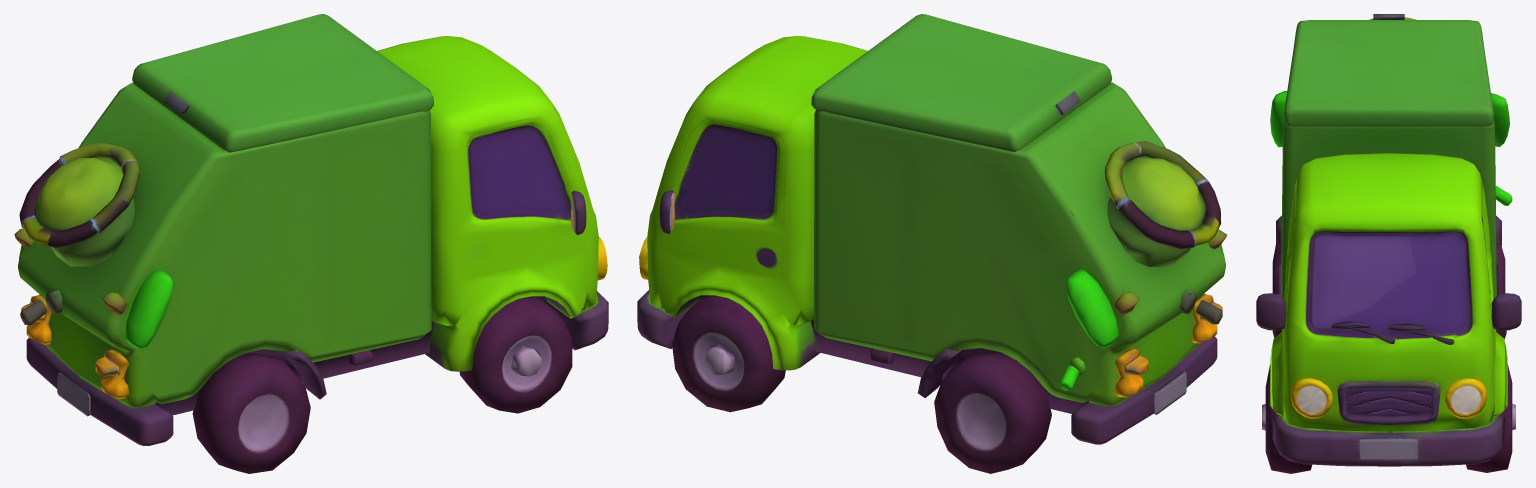
The model's file is waste_truck.glb.
The picture shows the model from 3 angles, left to right: view 1: azimuth 30°, elevation 25°; view 2: azimuth 150°, elevation 25°; view 3: azimuth 270°, elevation 25°; orthographic projection. The views are drawn at different scales.
Visible parts, largest first — view 1: tripo_node_040b0d3a-fc65-4d9e-b667-80920366ba9a; view 2: tripo_node_040b0d3a-fc65-4d9e-b667-80920366ba9a; view 3: tripo_node_040b0d3a-fc65-4d9e-b667-80920366ba9a.
Boxes of the visible parts, x1=… form: tripo_node_040b0d3a-fc65-4d9e-b667-80920366ba9a: x1=14, y1=14, x2=608, y2=473; tripo_node_040b0d3a-fc65-4d9e-b667-80920366ba9a: x1=637, y1=14, x2=1227, y2=473; tripo_node_040b0d3a-fc65-4d9e-b667-80920366ba9a: x1=1256, y1=14, x2=1521, y2=473.
Size of the model in its own units: 0.998 by 0.5996 by 0.4473.
Materials: 1 (1 with a texture image).
